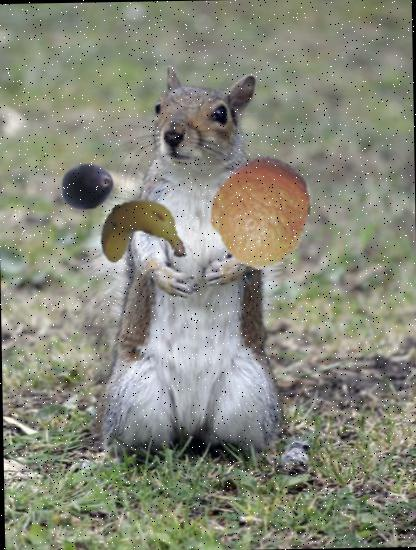Banana: (99, 196, 182, 280)
Mandarine: (203, 154, 319, 270)
Plum: (60, 158, 115, 214)
